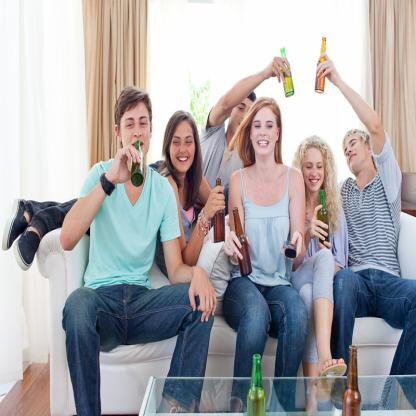drinking: (232, 207, 252, 278), (342, 345, 362, 415), (247, 353, 266, 416), (213, 178, 225, 246), (280, 47, 294, 97), (318, 189, 329, 249), (315, 37, 326, 93), (131, 140, 144, 187)
